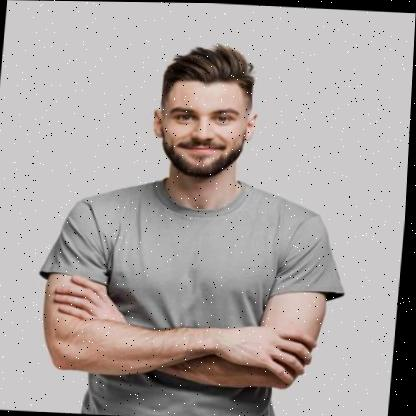person: (21, 30, 385, 416)
